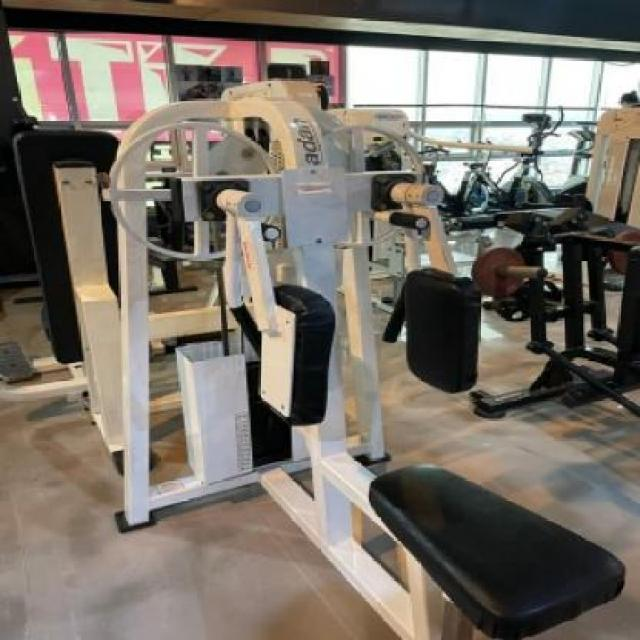lateral raises machine: (115, 78, 523, 640)
